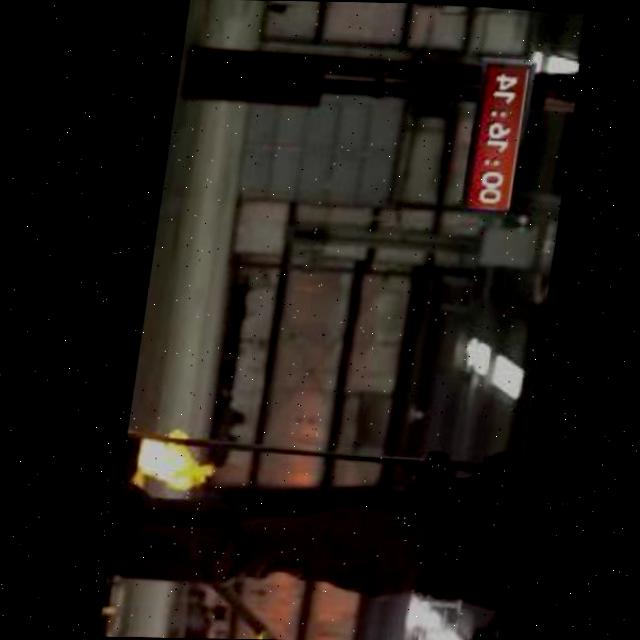fire: (130, 421, 216, 496)
